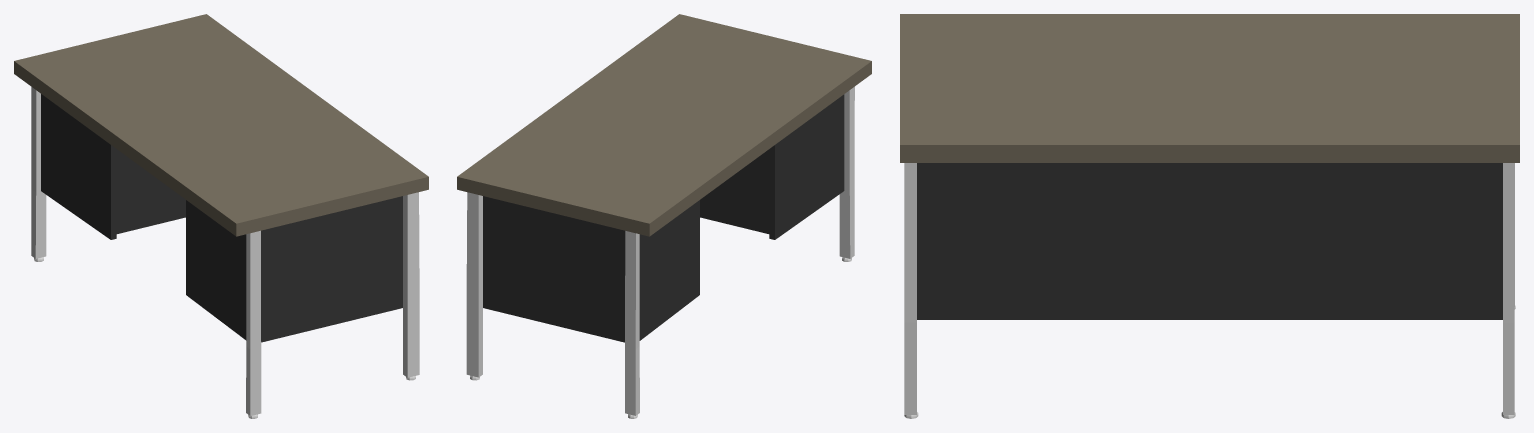
Rendered from teachersDeskSimpleColors.fbx.
The picture shows the model from 3 angles, left to right: view 1: azimuth 30°, elevation 25°; view 2: azimuth 150°, elevation 25°; view 3: azimuth 270°, elevation 25°; orthographic projection. The views are drawn at different scales.
Parts seen in each view (by area): view 1: pCube3; view 2: pCube3; view 3: pCube3.
Boxes of the visible parts, bbox=[...] form: pCube3: bbox=[14, 14, 428, 418]; pCube3: bbox=[457, 14, 871, 418]; pCube3: bbox=[900, 14, 1519, 418].
Bounding box in the file's own units: 2.7 × 2.7 × 5.41.
